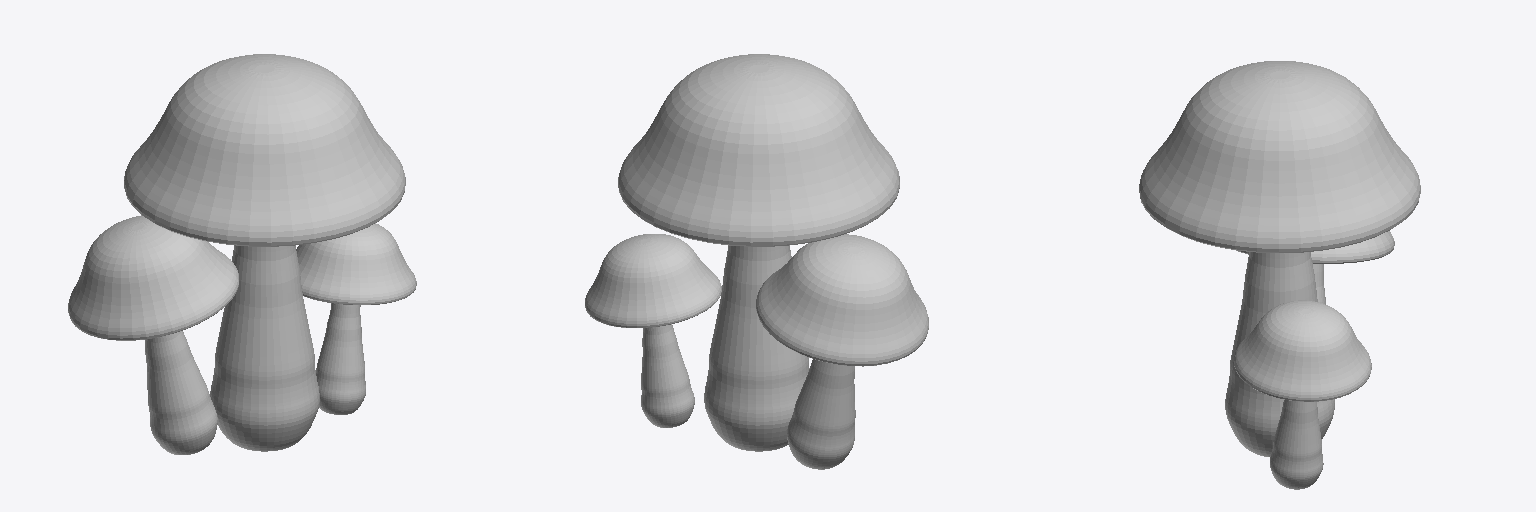
The model's file is mush.obj.
3 renders of one model, left to right at view 1: azimuth 30°, elevation 25°; view 2: azimuth 150°, elevation 25°; view 3: azimuth 270°, elevation 25°, orthographic.
Visible parts, largest first — view 1: Mushroom_model; view 2: Mushroom_model; view 3: Mushroom_model.
Boxes of the visible parts, x1=… form: Mushroom_model: x1=68, y1=54, x2=416, y2=454; Mushroom_model: x1=585, y1=54, x2=928, y2=469; Mushroom_model: x1=1139, y1=61, x2=1420, y2=489.
Size of the model in its own units: 11.12 by 12.08 by 8.36.